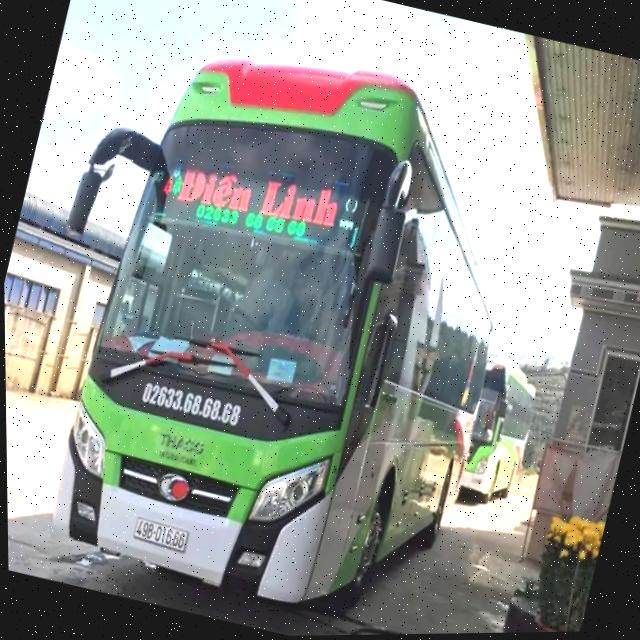car: (0, 4, 557, 640)
plate: (131, 373, 250, 437), (125, 505, 198, 560)
